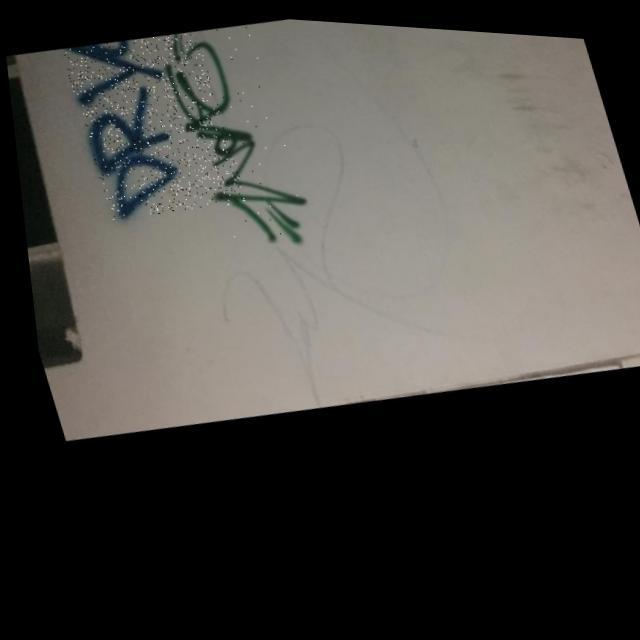-: (58, 22, 246, 226), (153, 15, 314, 253)
